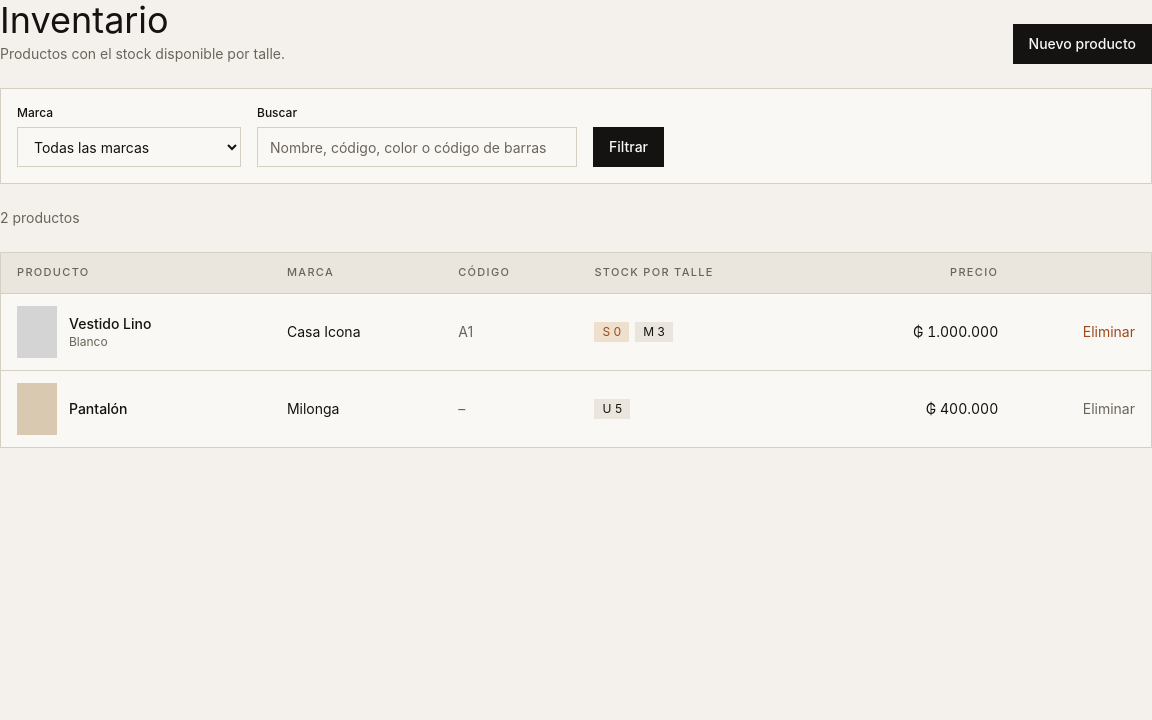
Test: InventarioView barcode scanning › offers Eliminar on every row, above the row link, asking first
The width and height of the screenshot is (1152, 720).
Click the button with aria-label "Eliminar Vestido Lino" at (1109, 332), box x1=1083 y1=322 x2=1135 y2=342
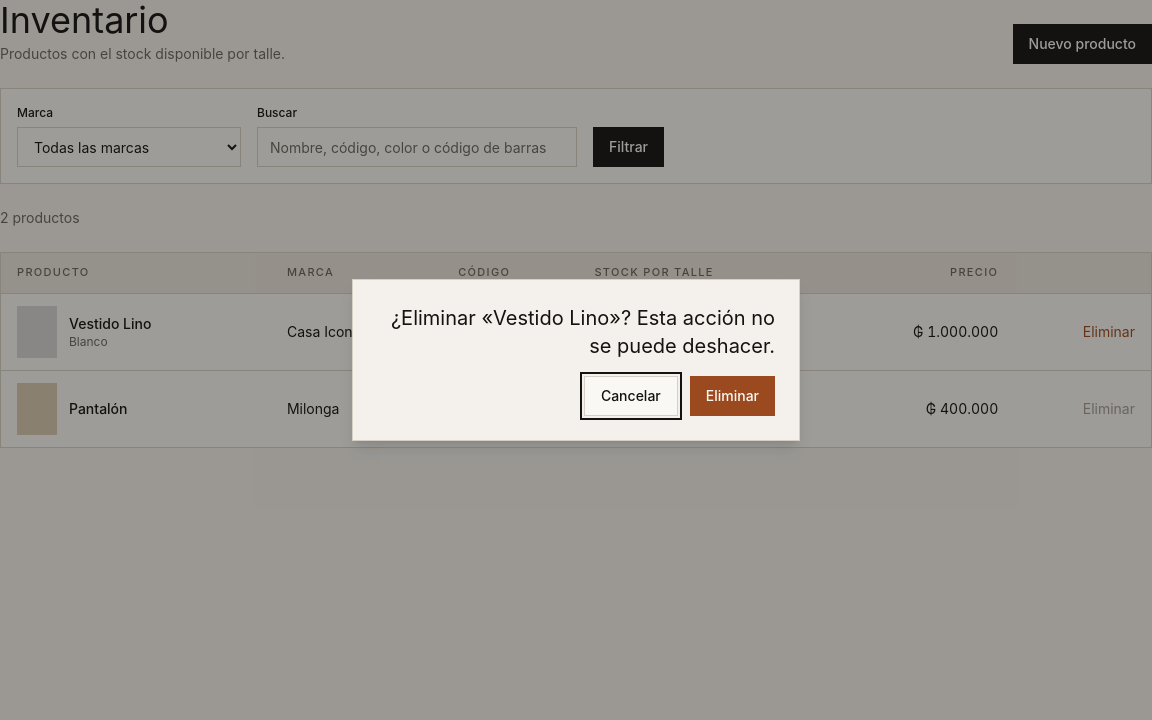
Now the dialog "¿Eliminar «Vestido Lino»? Esta acción no se puede deshacer." is shown, box x1=352 y1=279 x2=800 y2=441
